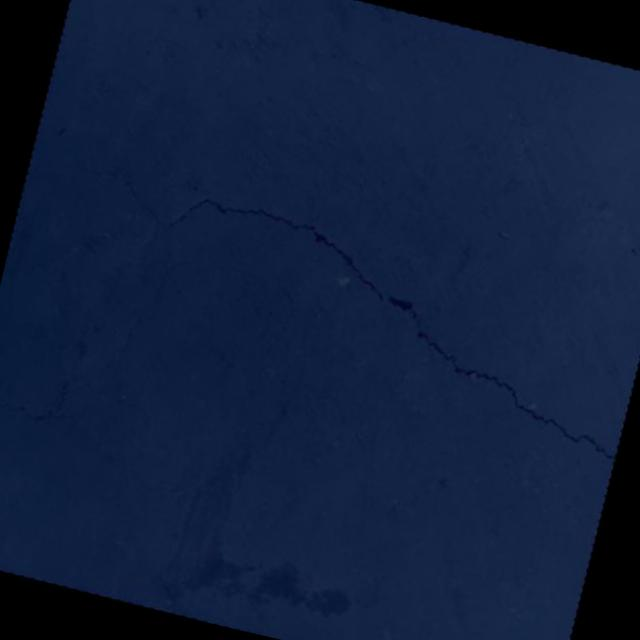crack: (49, 163, 640, 460), (68, 212, 214, 415), (59, 420, 184, 496), (0, 372, 91, 438)
